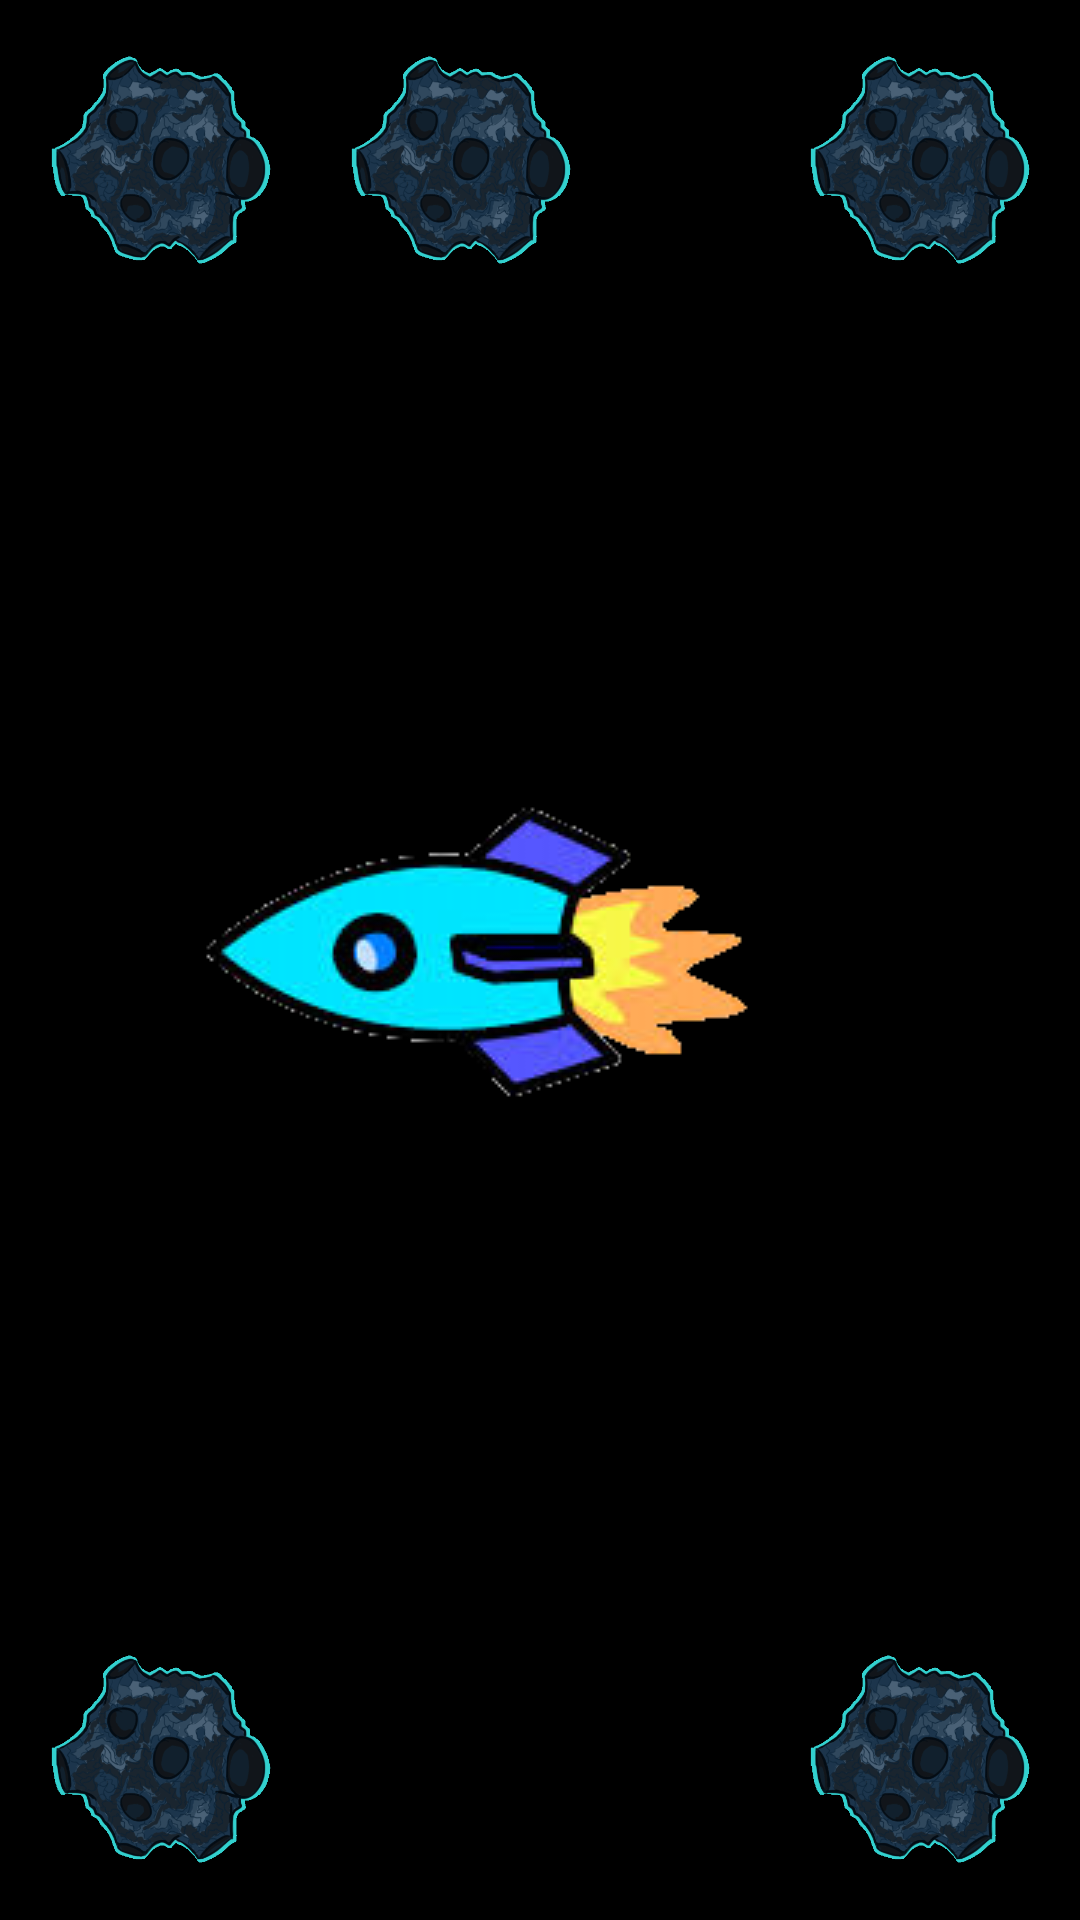

Point at icon controls on the screen. Image size 1080w x 1920h, points as point (x, y).
asteroid: point (161, 160), point (461, 160), point (920, 160), point (161, 1759), point (920, 1759)
